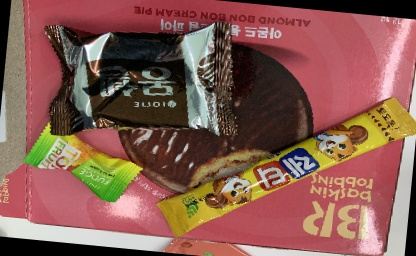jeli: (20, 115, 150, 207)
jt: (152, 74, 416, 256)
mon: (30, 1, 254, 154)
